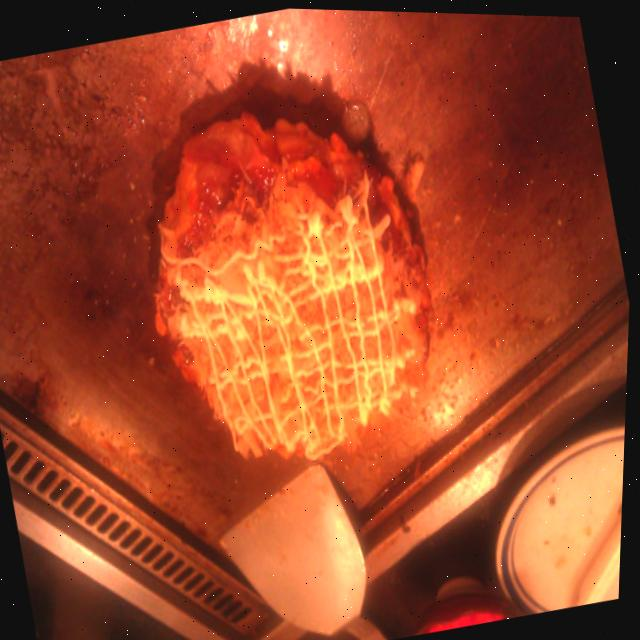蛋糕甜品: (136, 68, 485, 515)
